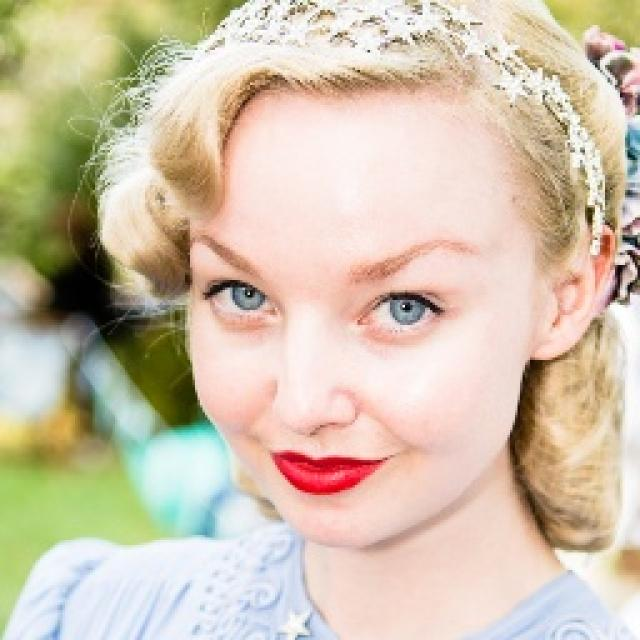earlobe: (530, 221, 618, 361)
